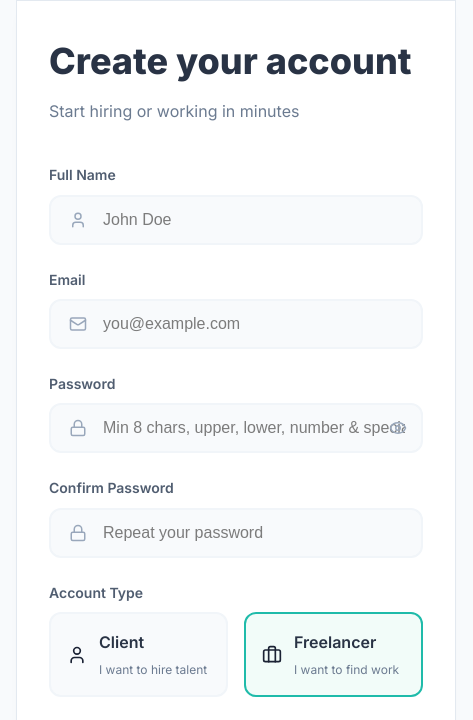
it: Register Component › handles backend error gracefully
Type "Test" into the field labelled "Full Name" at (236, 220), box [49, 195, 423, 245]
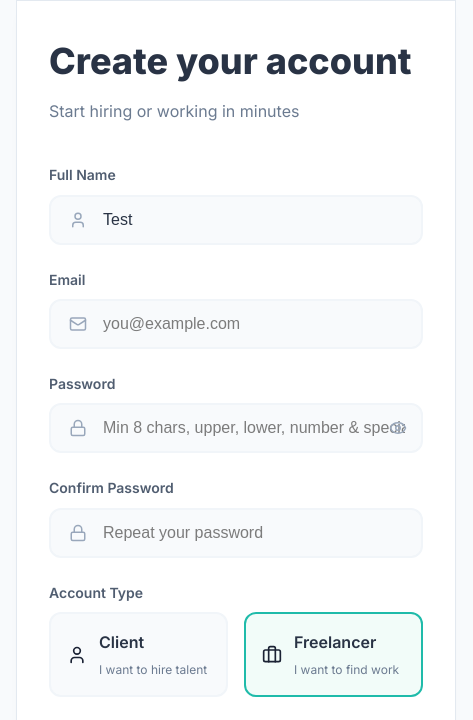
Type "test@test.com" into the field labelled "Email" at (236, 324), box [49, 299, 423, 349]
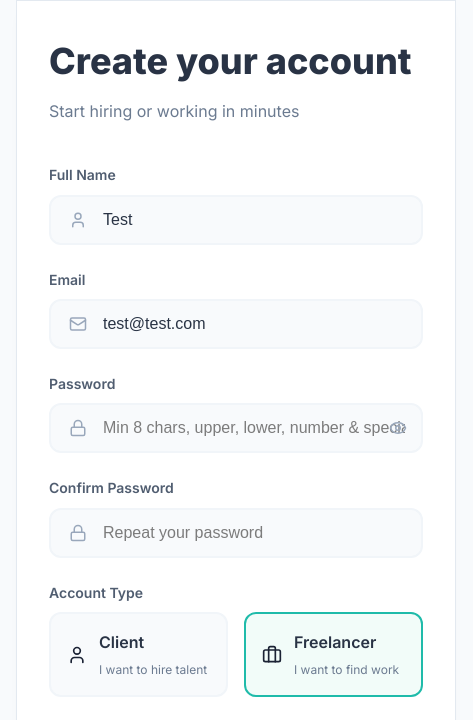
Type "ValidPass123!" into the password field labelled "Password" at (236, 428), box [49, 403, 423, 453]
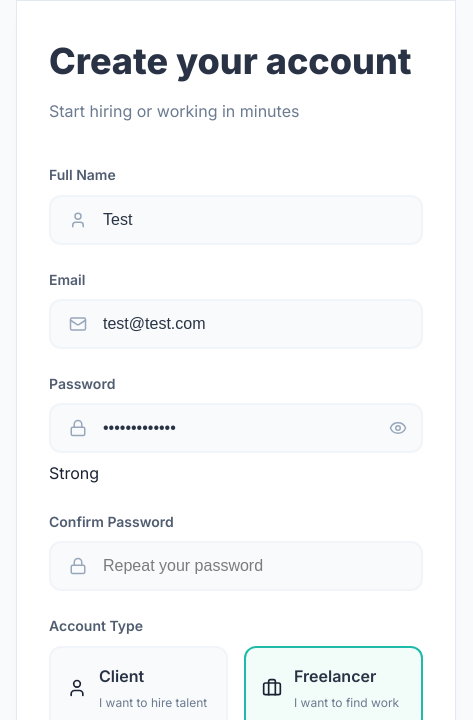
Type "ValidPass123!" into the password field labelled "Confirm Password" at (236, 566), box [49, 541, 423, 591]
(page scrolled)
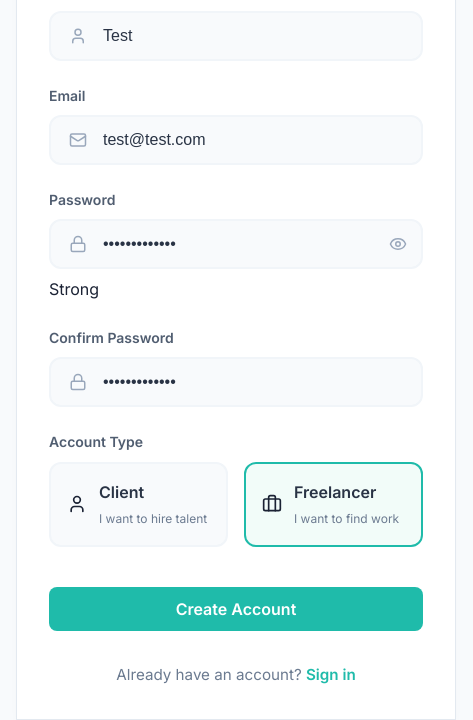
Click the button "Create Account" at (236, 608), box [49, 586, 423, 630]
(page scrolled)
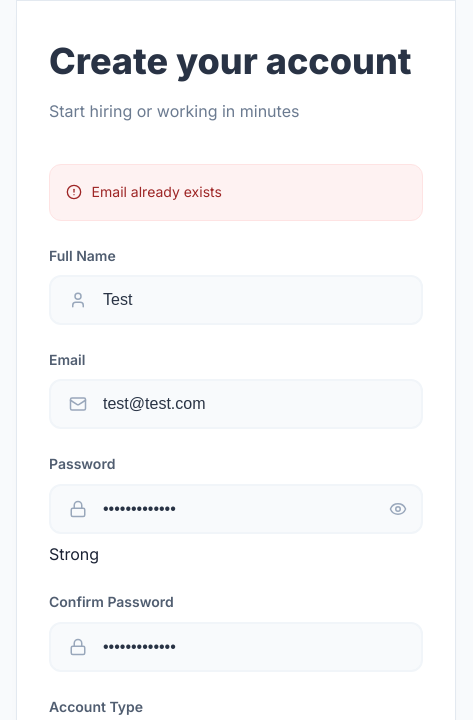
Check: the text "Email already exists" is shown, box [92, 181, 222, 204]
